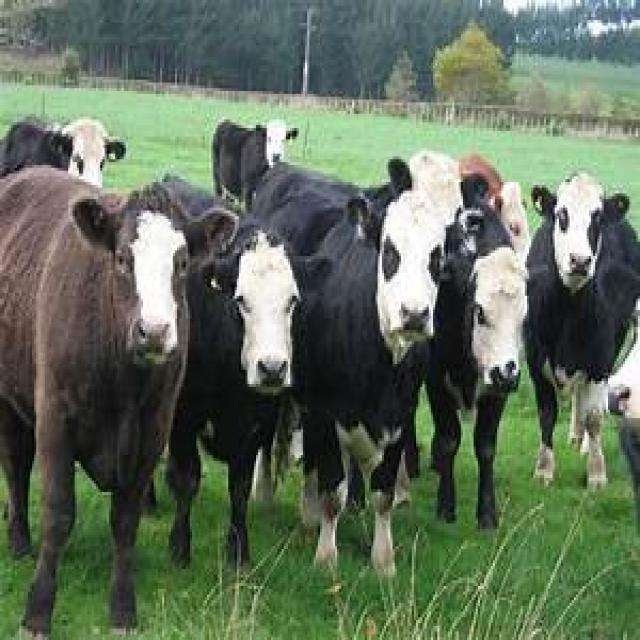animal: (0, 162, 239, 637), (265, 198, 452, 588), (160, 237, 336, 565), (525, 166, 640, 485), (422, 243, 547, 527), (0, 114, 126, 188), (209, 117, 299, 213)
